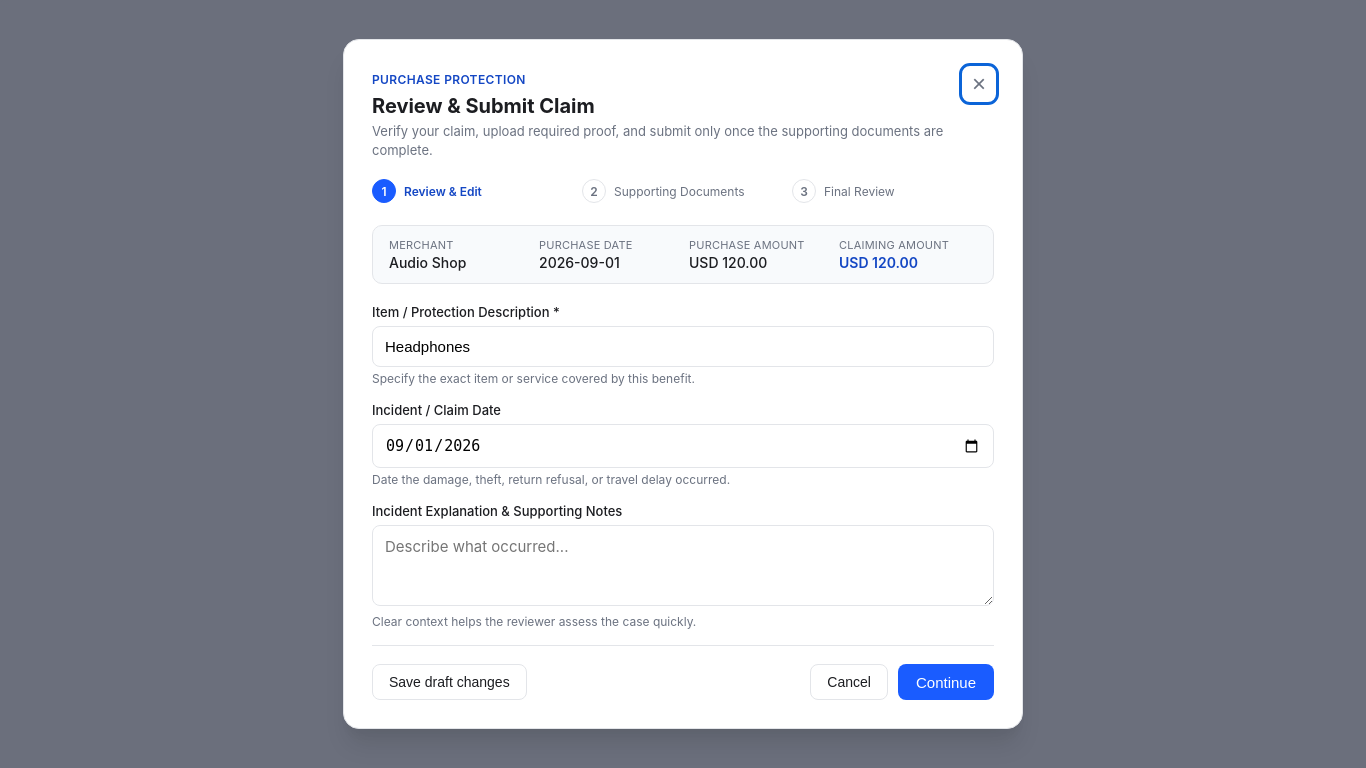
Test: critical member flows › blocks final submission until required documents are uploaded
expect the text "Purchase Protection" is shown: met, box [372, 72, 526, 87]
Click the button "Continue": (946, 682) [898, 664, 994, 700]
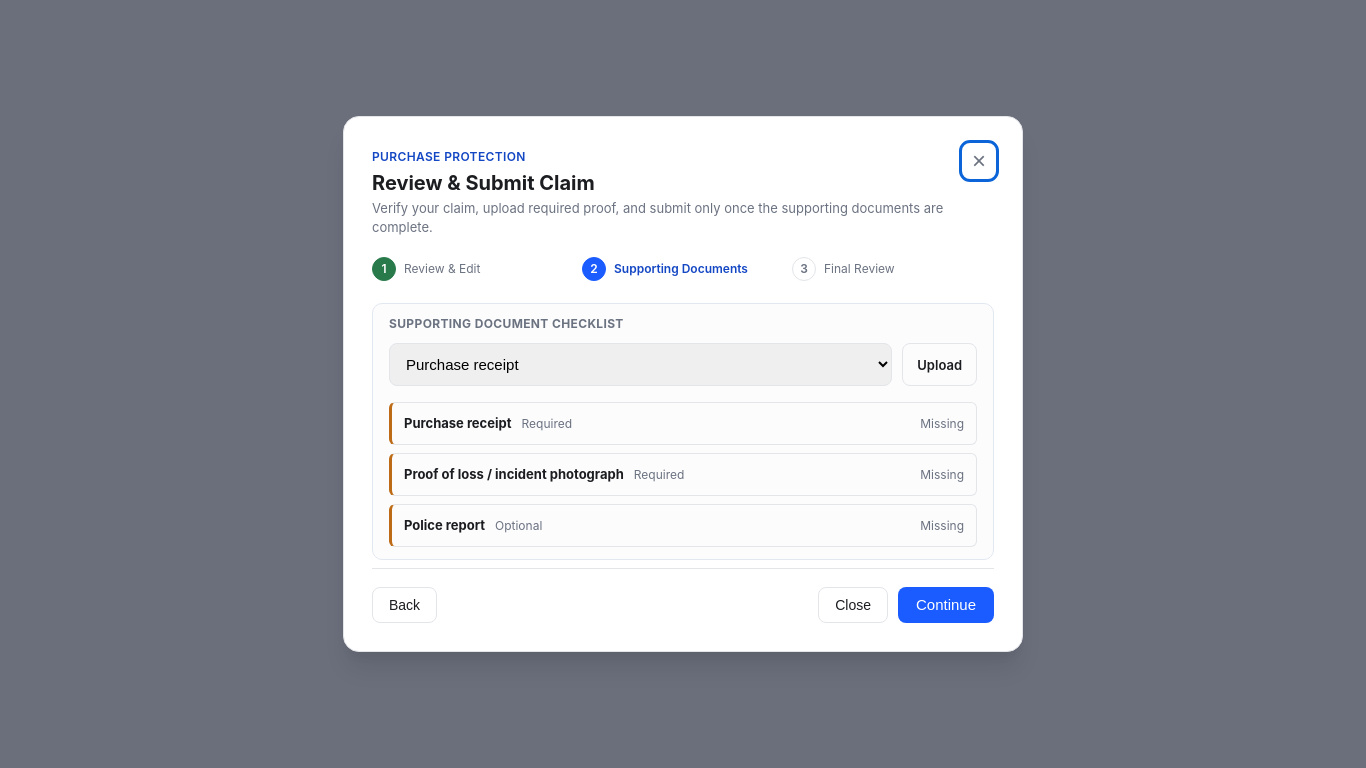
expect the heading "Supporting document checklist" is shown: met, box [389, 316, 624, 331]
Click the button "Continue": (946, 604) [898, 586, 994, 622]
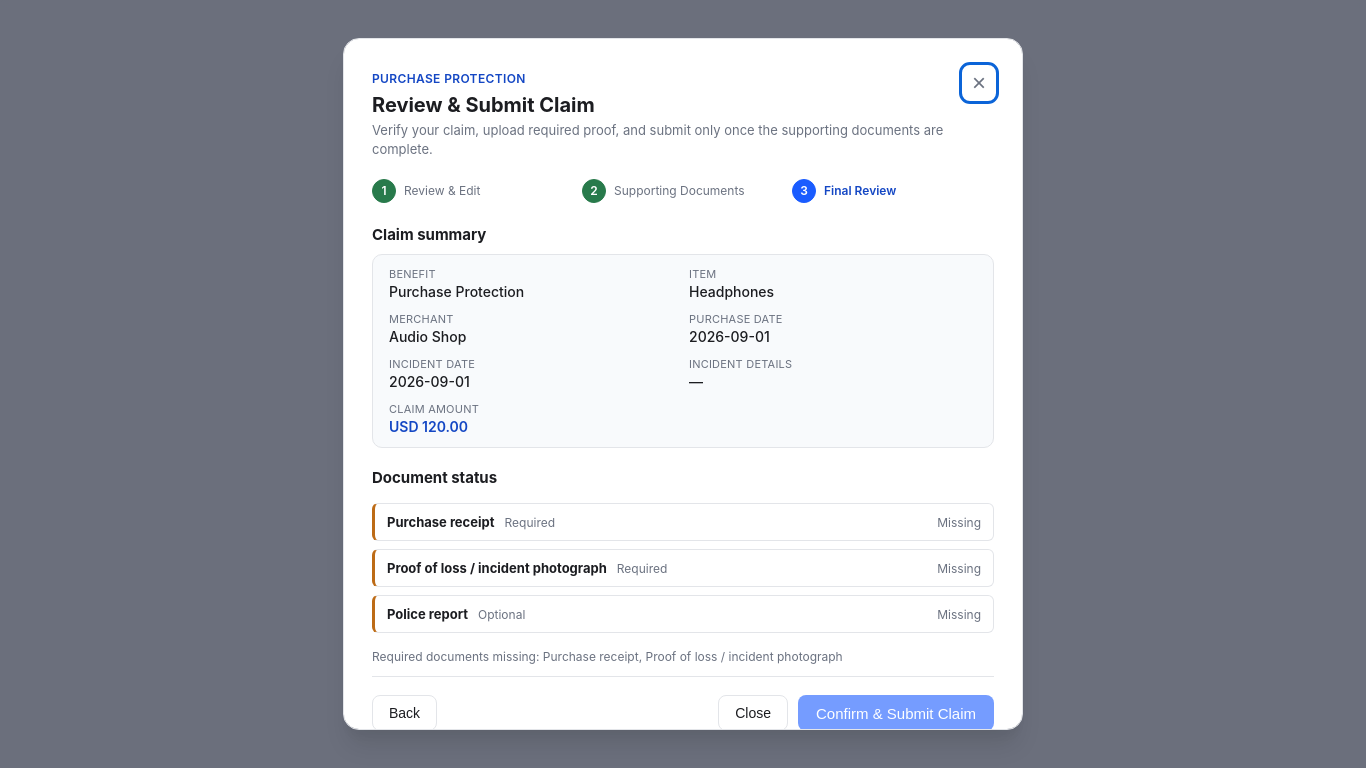
expect the text "Required documents missing" is shown: met, box [372, 649, 543, 664]
expect the button "Confirm & Submit Claim" is disabled: met, box [798, 695, 994, 730]
